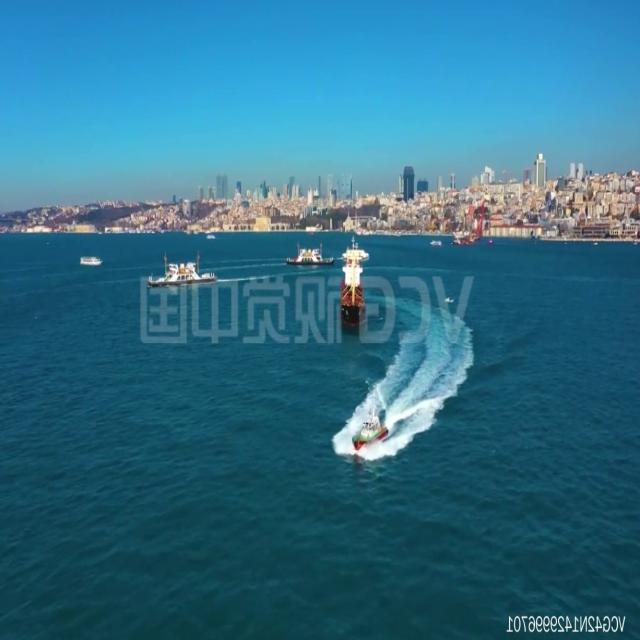cargoship: (338, 256, 368, 326)
fishing boat: (146, 254, 214, 287), (286, 241, 336, 267)
houseboat: (350, 400, 390, 450)
passenger ship: (341, 246, 371, 262), (75, 252, 106, 267)
